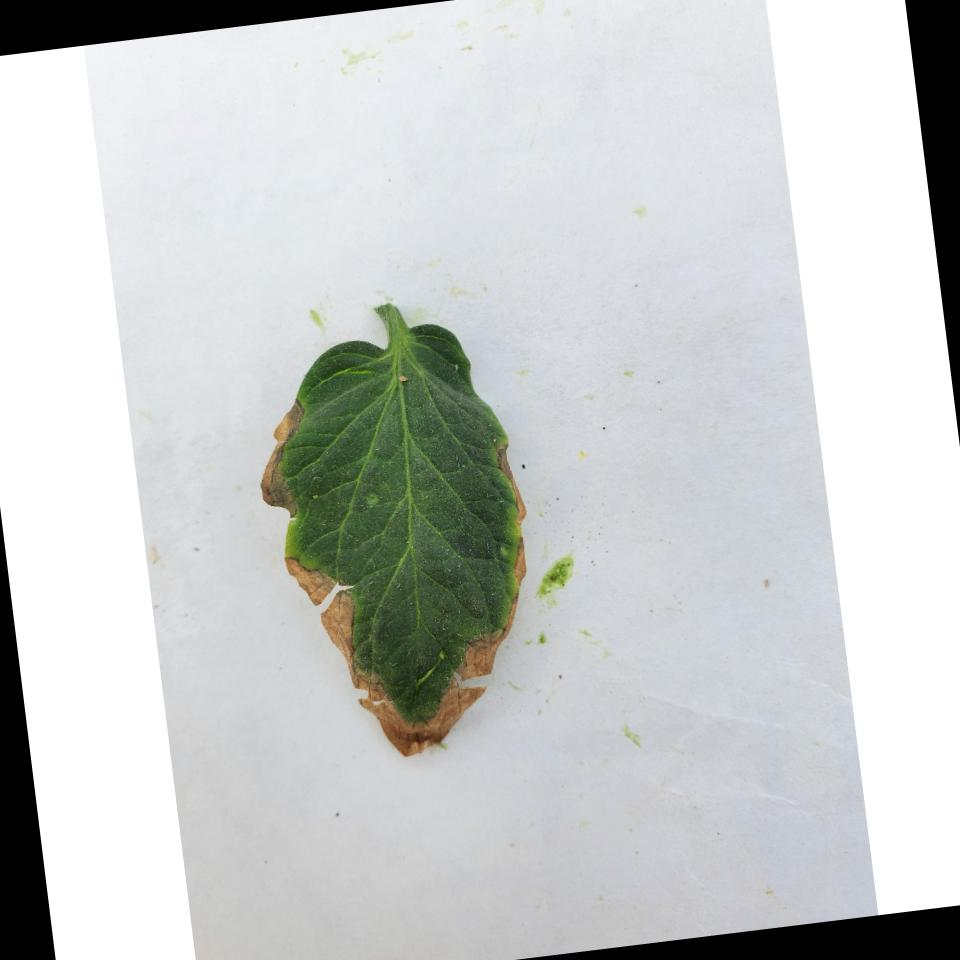tomato_bacterial_blight: (239, 271, 561, 777)
